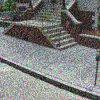stairs: (39, 24, 78, 50), (35, 1, 67, 22)
